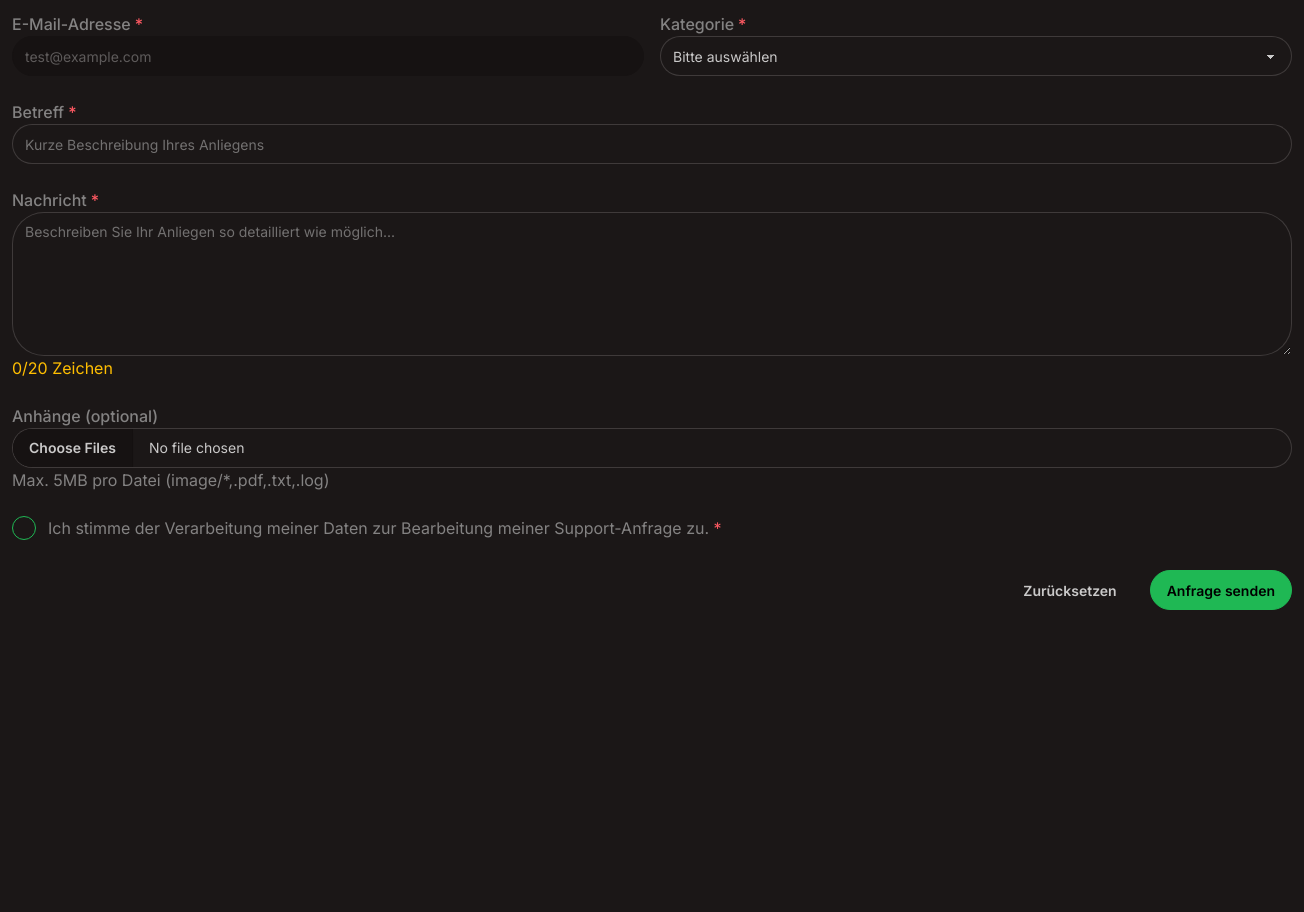
Scenario: SupportForm Integration Tests › validiert minimale Nachrichtenlänge
The image size is (1304, 912).
Type "Zu kurz" into the text box labelled "Nachricht*" at {"x": 652, "y": 284}, box x1=12 y1=212 x2=1292 y2=356
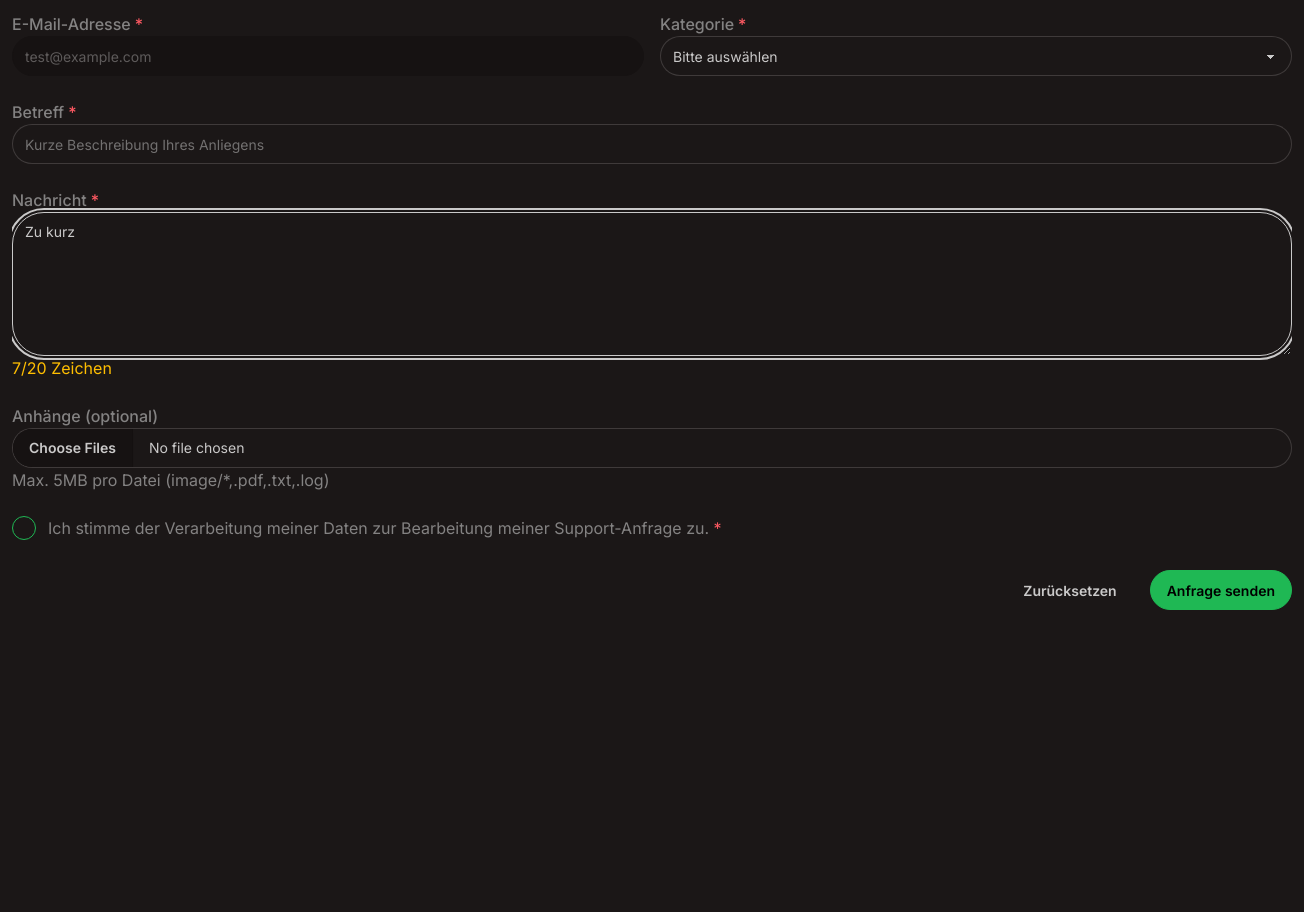
Click the button "Anfrage senden" at {"x": 1221, "y": 590}, box x1=1150 y1=570 x2=1292 y2=610
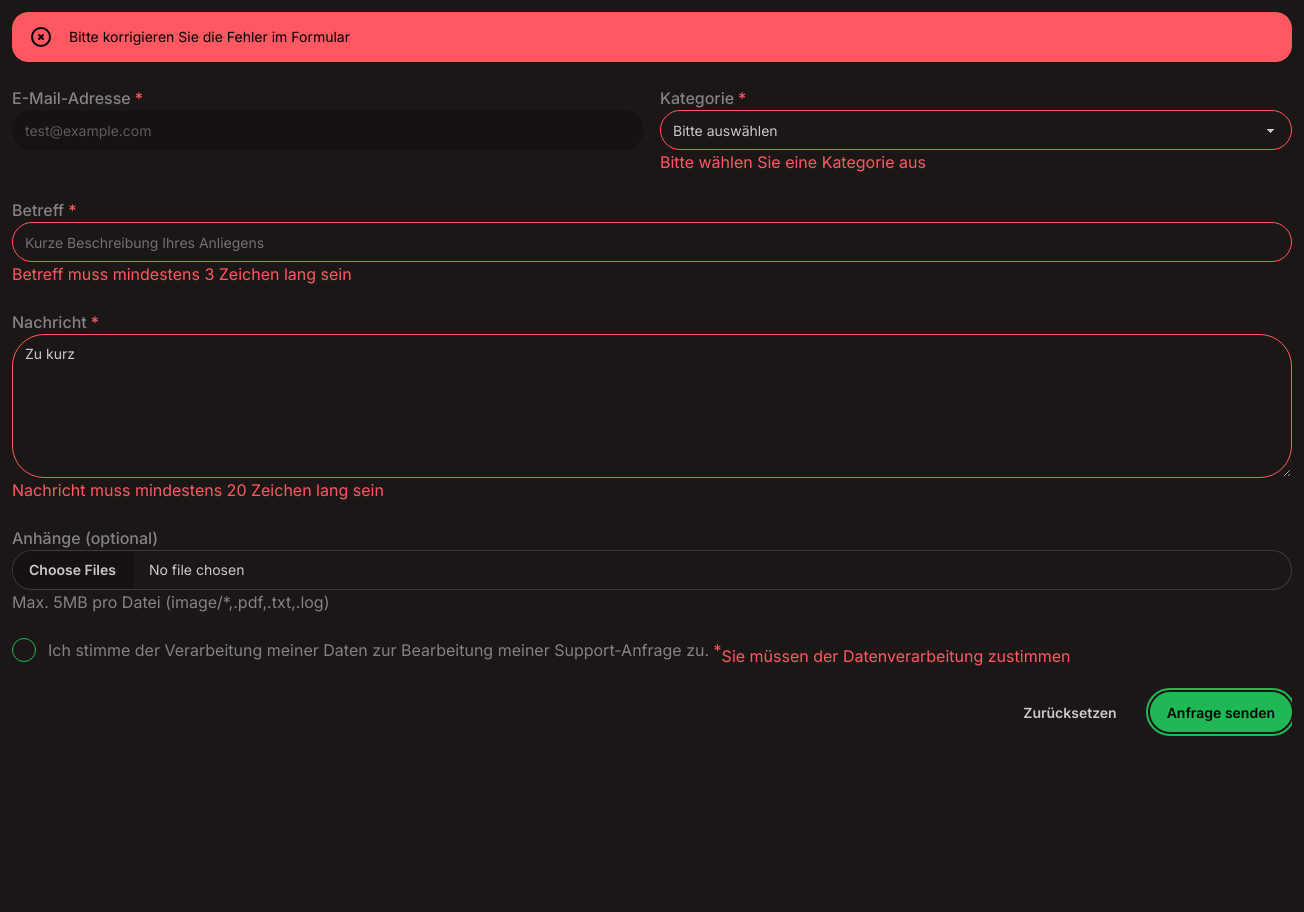
Now the text "Nachricht muss mindestens 20 Zeichen lang sein" is shown, box x1=12 y1=478 x2=384 y2=502
